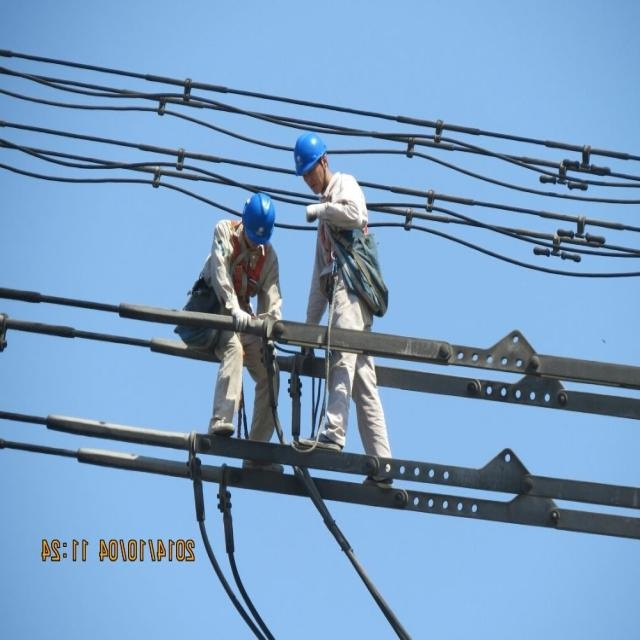Con_Casco: (293, 133, 330, 195), (242, 191, 278, 253)
